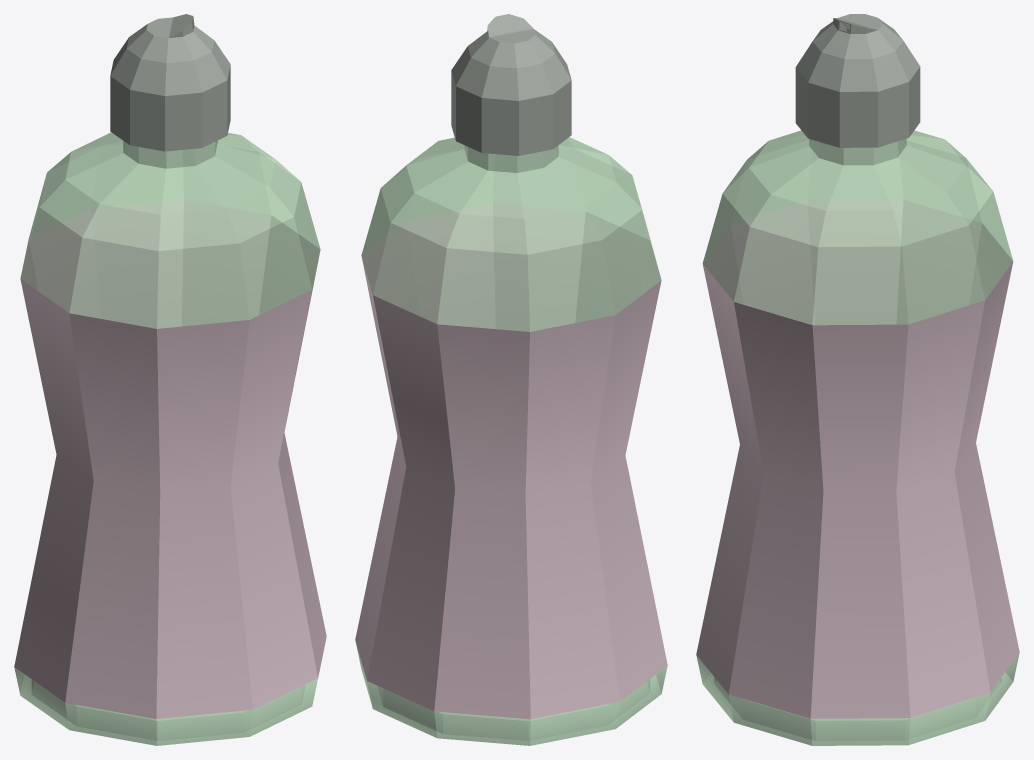
File: Soap.fbx
The picture shows the model from 3 angles, left to right: view 1: azimuth 30°, elevation 25°; view 2: azimuth 150°, elevation 25°; view 3: azimuth 270°, elevation 25°; orthographic projection.
Parts seen in each view (by area): view 1: Soap; view 2: Soap; view 3: Soap.
Part boxes in pixels (box(x1,y1,x2,y2)): Soap: box(14, 14, 326, 745); Soap: box(355, 14, 667, 745); Soap: box(696, 14, 1019, 745).
Bounding box in the file's own units: 0.1566 × 0.3735 × 0.1638.
